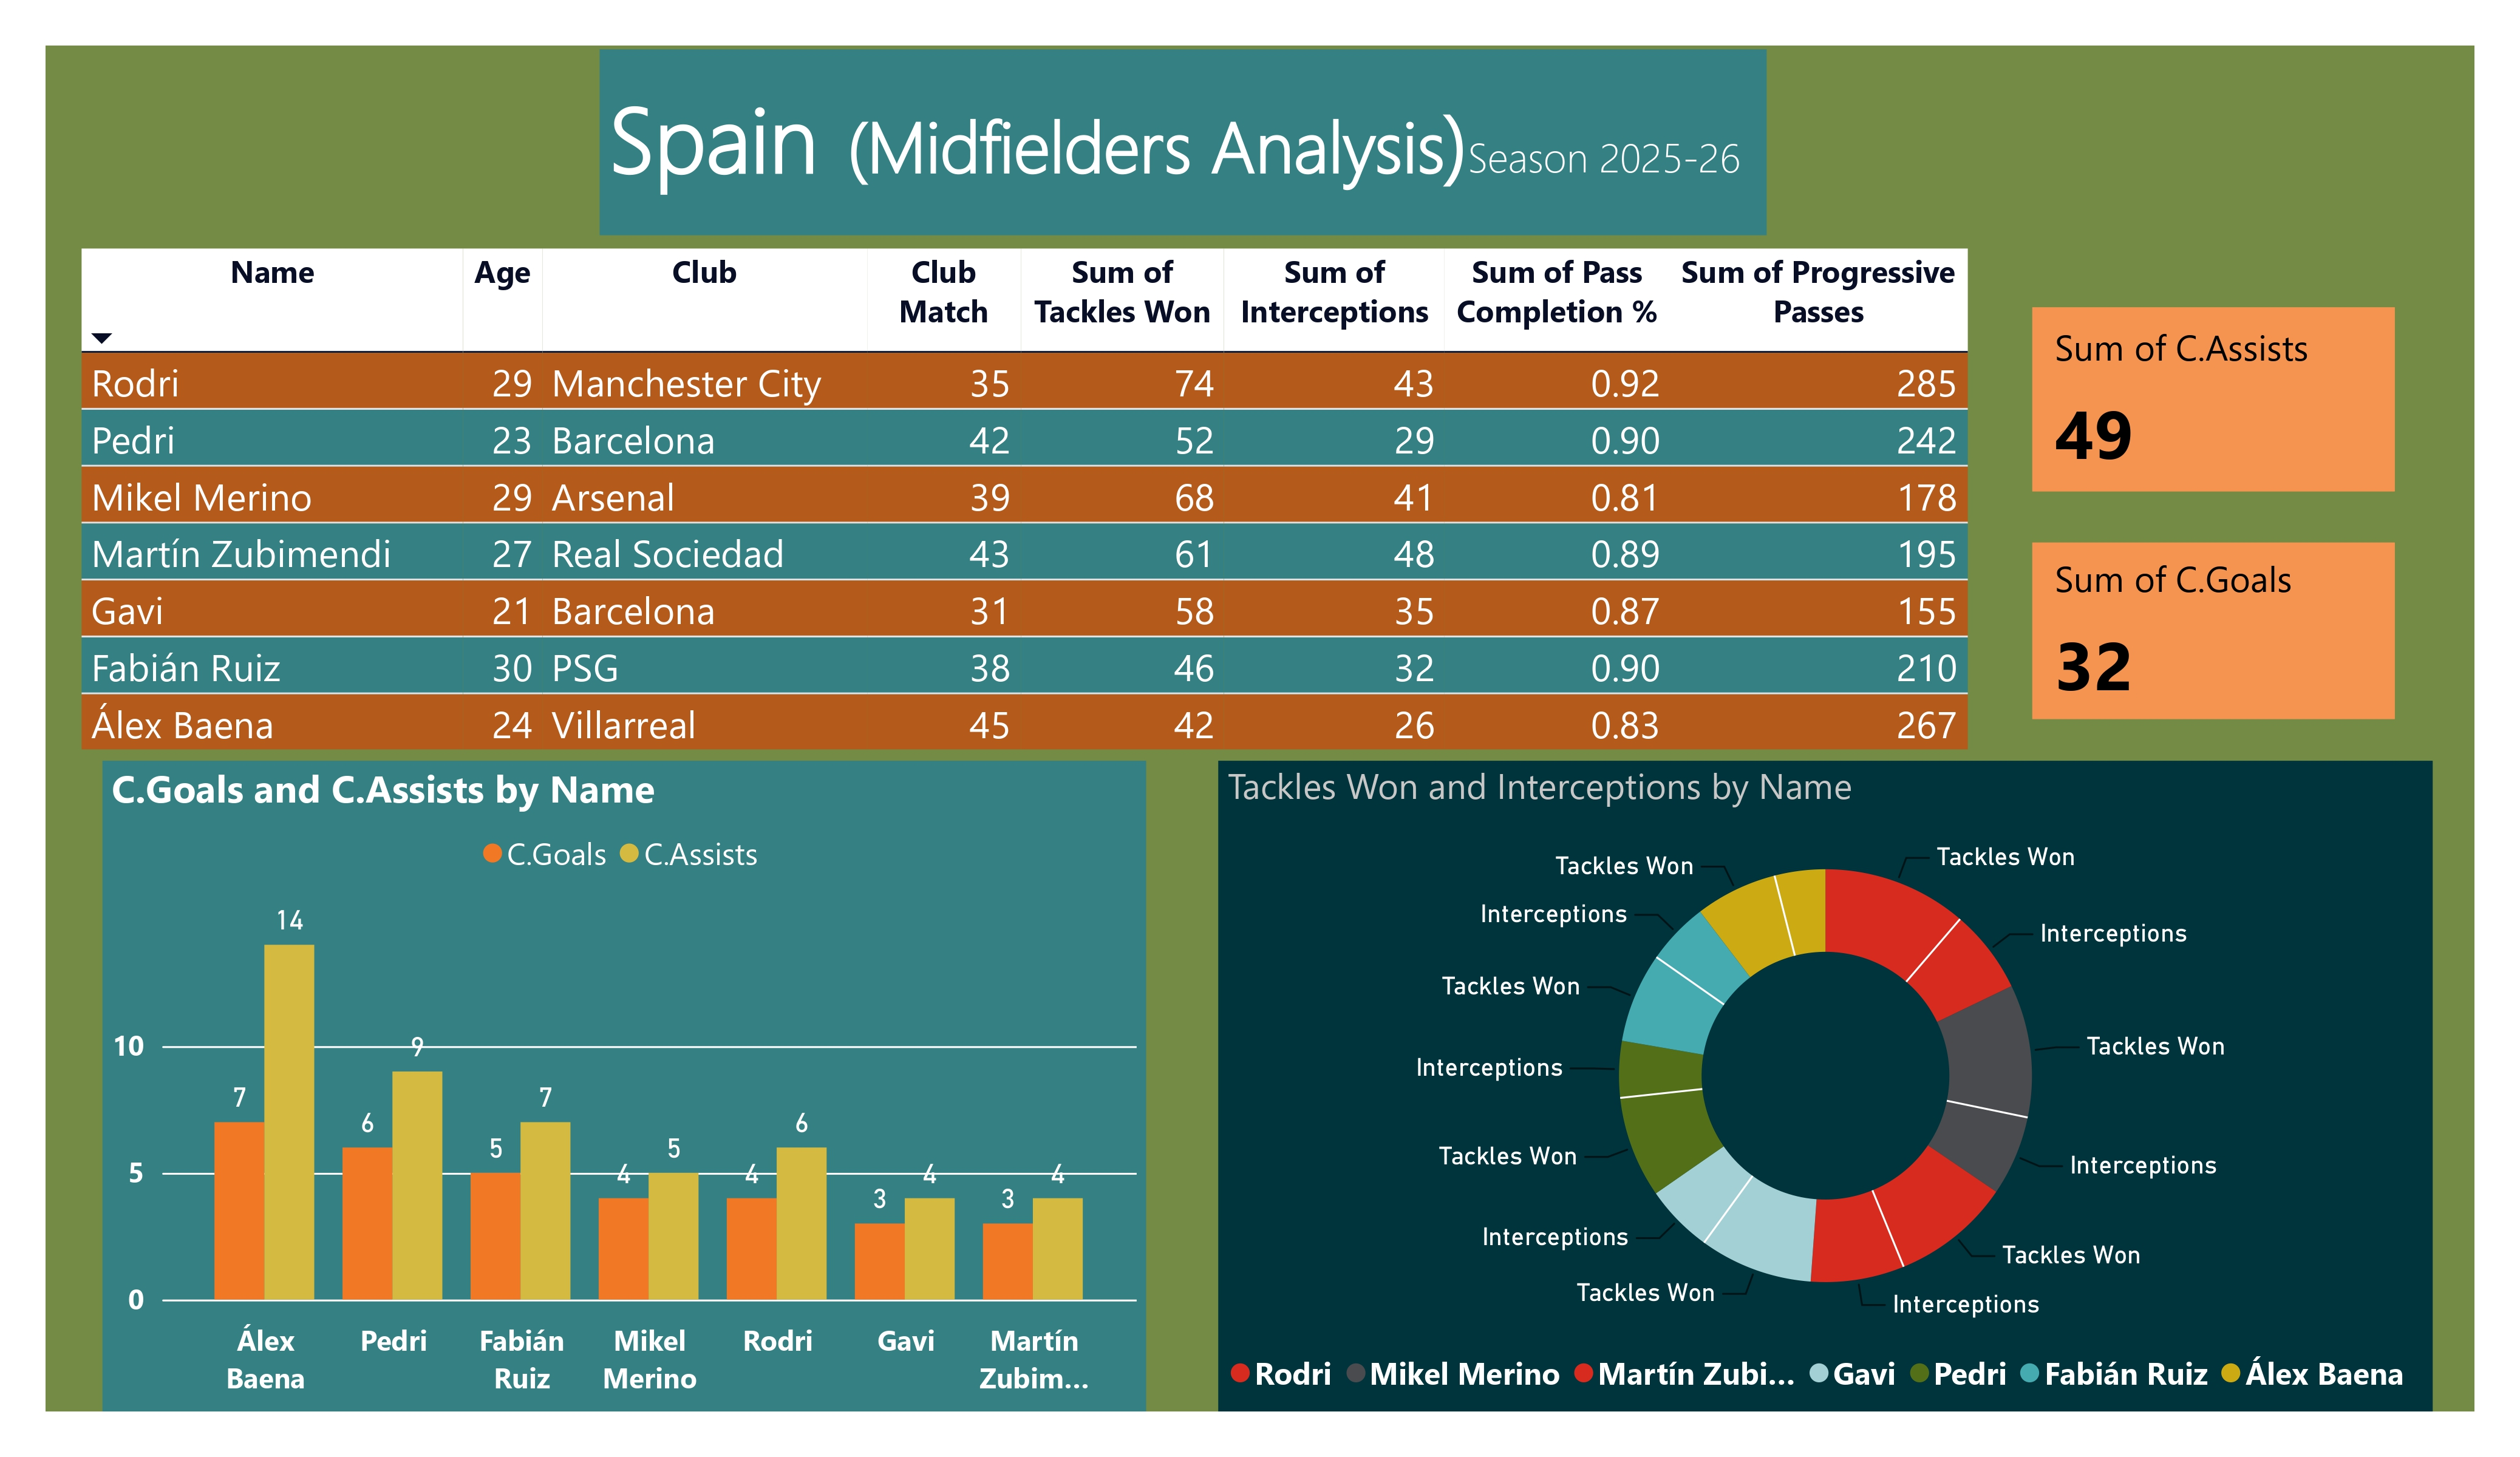

The page's visual inventory and layout, read from the dashboard file:
{"tool":"powerbi","page":{"name":"Midfilders","canvas":[1280,720],"ordinal":1},"visuals":[{"type":"slicer","fields":{"Values":["Sheet1.Position"]},"box":[995.9,522.4,246.5,181.2],"z":0},{"type":"lineClusteredColumnComboChart","fields":{"Category":["Sheet1.Name"],"Y":["Sum(Sheet1.C.Goals)","Sum(Sheet1.C.Assists)"]},"box":[30,376.7,550,343.3],"z":1000},{"type":"cardVisual","fields":{"Data":["Sum(Sheet1.C.Goals)"]},"box":[1041.7,256.7,201.7,103.3],"z":2000},{"type":"cardVisual","fields":{"Data":["Sum(Sheet1.C.Assists)"]},"box":[1041.7,133.3,201.7,106.7],"z":3000},{"type":"donutChart","fields":{"Category":["Sheet1.Name"],"Y":["Sum(Sheet1.Tackles Won)","Sum(Sheet1.Interceptions)"]},"box":[618.3,376.7,640,343.3],"z":4000},{"type":"tableEx","fields":{"Values":["Sheet1.Name","Sheet1.Age","Sheet1.Club","Sheet1.Club Match","Sum(Sheet1.Tackles Won)","Sum(Sheet1.Interceptions)","Sum(Sheet1.Pass Completion %)","Sum(Sheet1.Progressive Passes )"]},"box":[13.3,101.7,1008.3,275],"z":5000},{"type":"textbox","box":[291.7,1.7,615,98.3],"z":6000}]}

Visuals, with their boxes on the page's 1280x720 design canvas (x1, y1, x2, y2). These are canvas units, not pixel positions in the 2520x1457 screenshot, which may show the page scaled, cropped or inside an application window:
slicer - Sheet1.Position: [996, 522, 1242, 704]
lineClusteredColumnComboChart - Sheet1.Name x Sum(Sheet1.C.Goals): [30, 377, 580, 720]
cardVisual - Sum(Sheet1.C.Goals): [1042, 257, 1243, 360]
cardVisual - Sum(Sheet1.C.Assists): [1042, 133, 1243, 240]
donutChart - Sheet1.Name x Sum(Sheet1.Tackles Won): [618, 377, 1258, 720]
tableEx - Sheet1.Name x Sheet1.Age: [13, 102, 1022, 377]
textbox: [292, 2, 907, 100]
